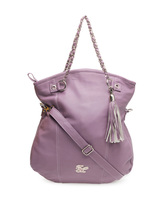bag: (19, 11, 144, 184)
